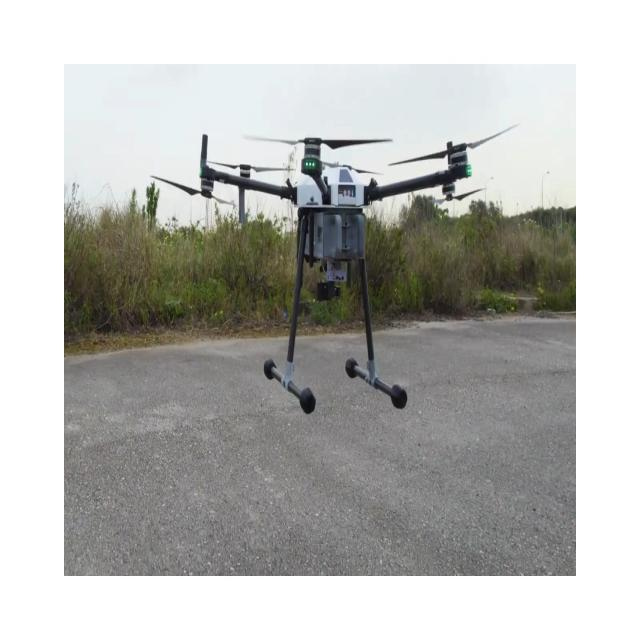drone: (149, 122, 519, 414)
